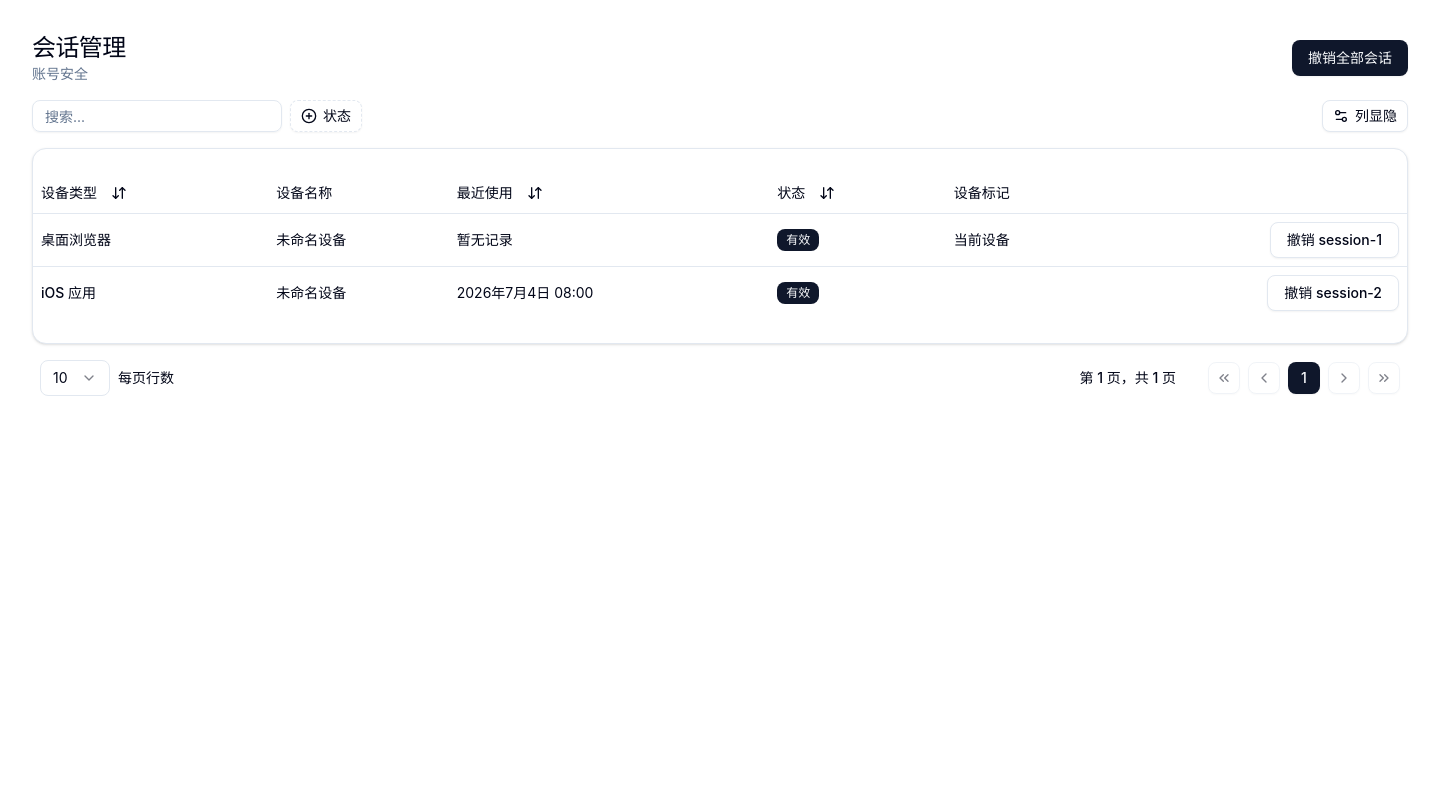
SessionsPage › keeps the row visible and shows a safe error when revoking a session fails
Click the button "撤销 session-2".
click(1333, 292)  # box left=1267, top=274, right=1399, bottom=310
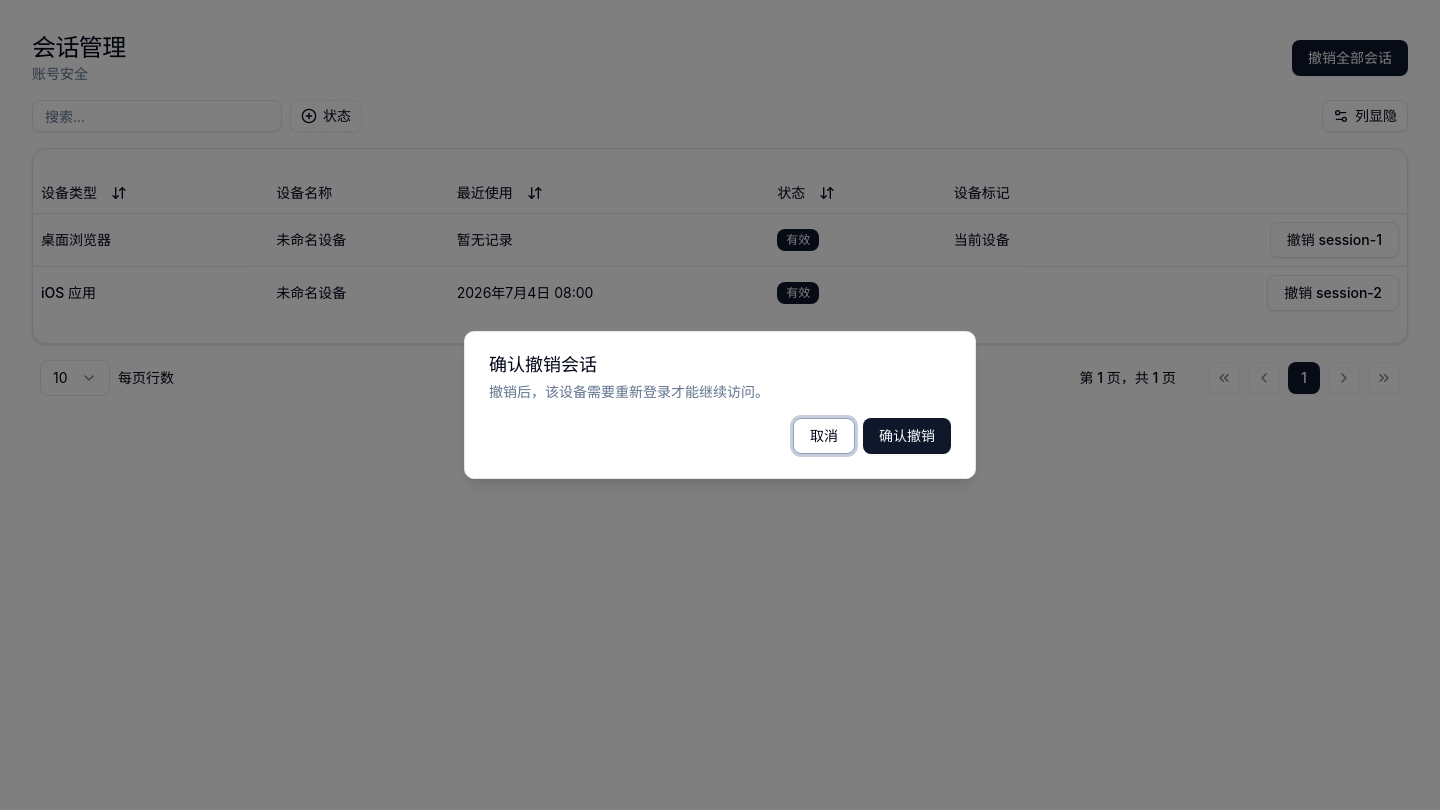
Click the button "确认撤销".
click(907, 436)  # box left=863, top=418, right=951, bottom=454
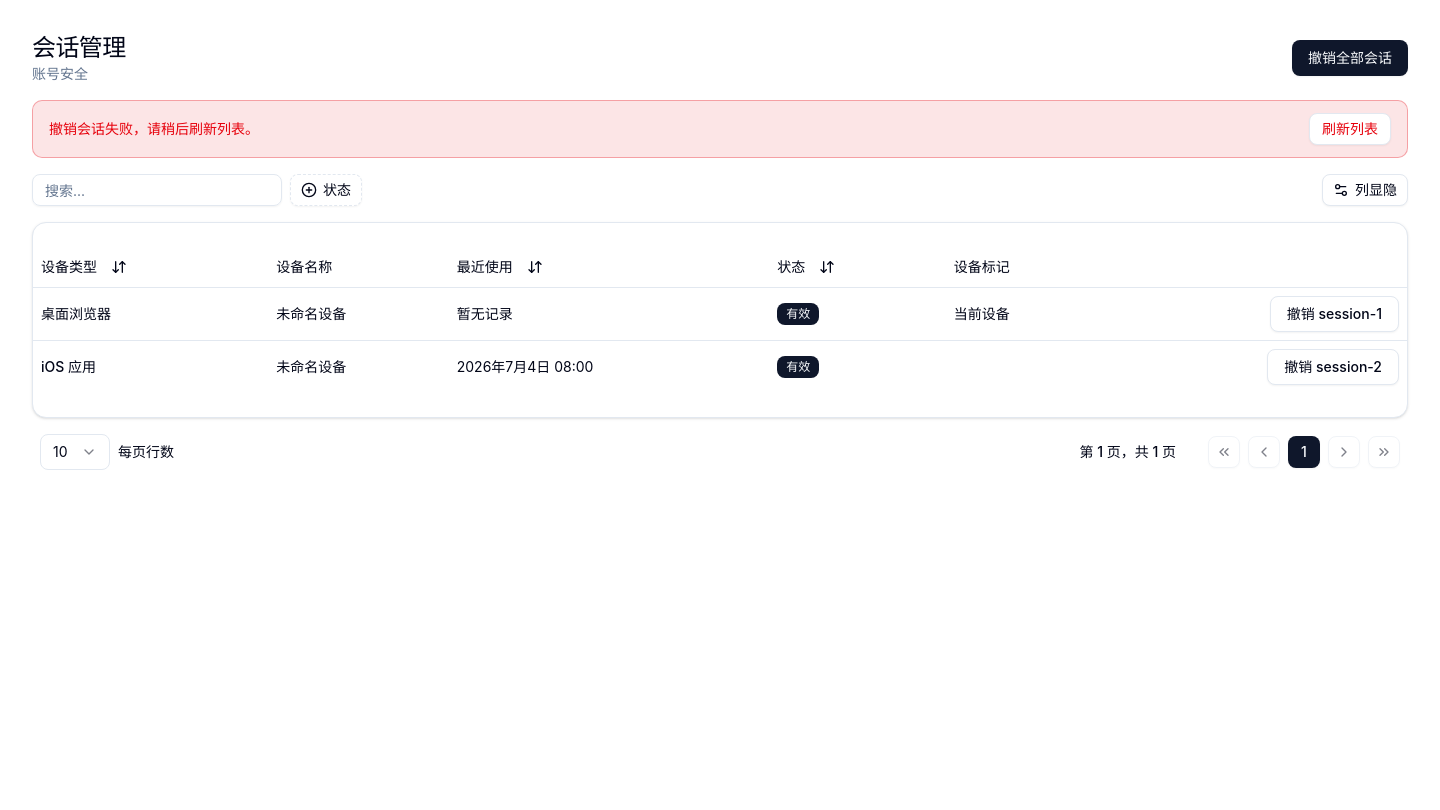
Expected: the button "撤销 session-2" is shown, left=1267, top=348, right=1399, bottom=384
Now the message shows "撤销会话失败，请稍后刷新列表。", box left=49, top=120, right=259, bottom=137
